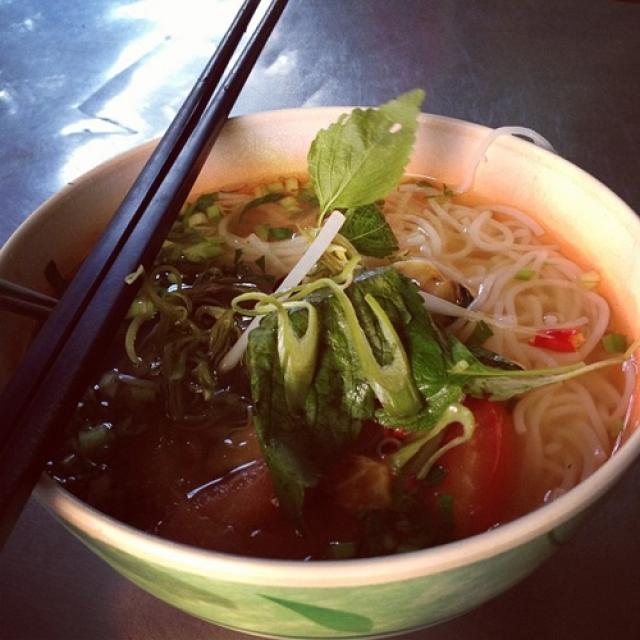面条主食: (4, 90, 634, 610)
